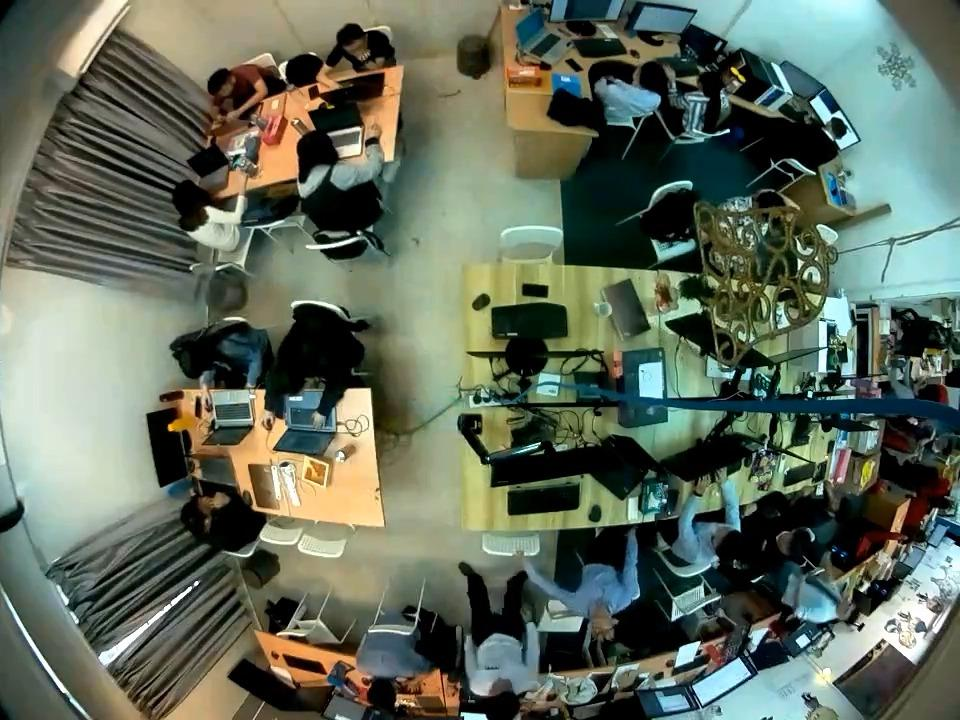name-tag: (482, 662, 500, 672)
